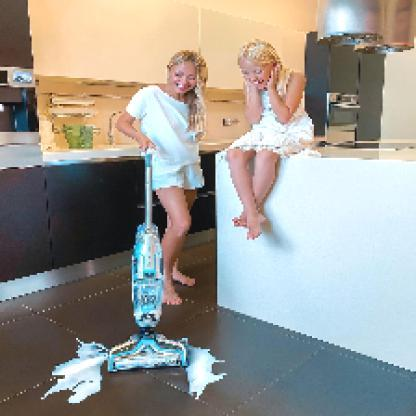child: (226, 41, 315, 242)
